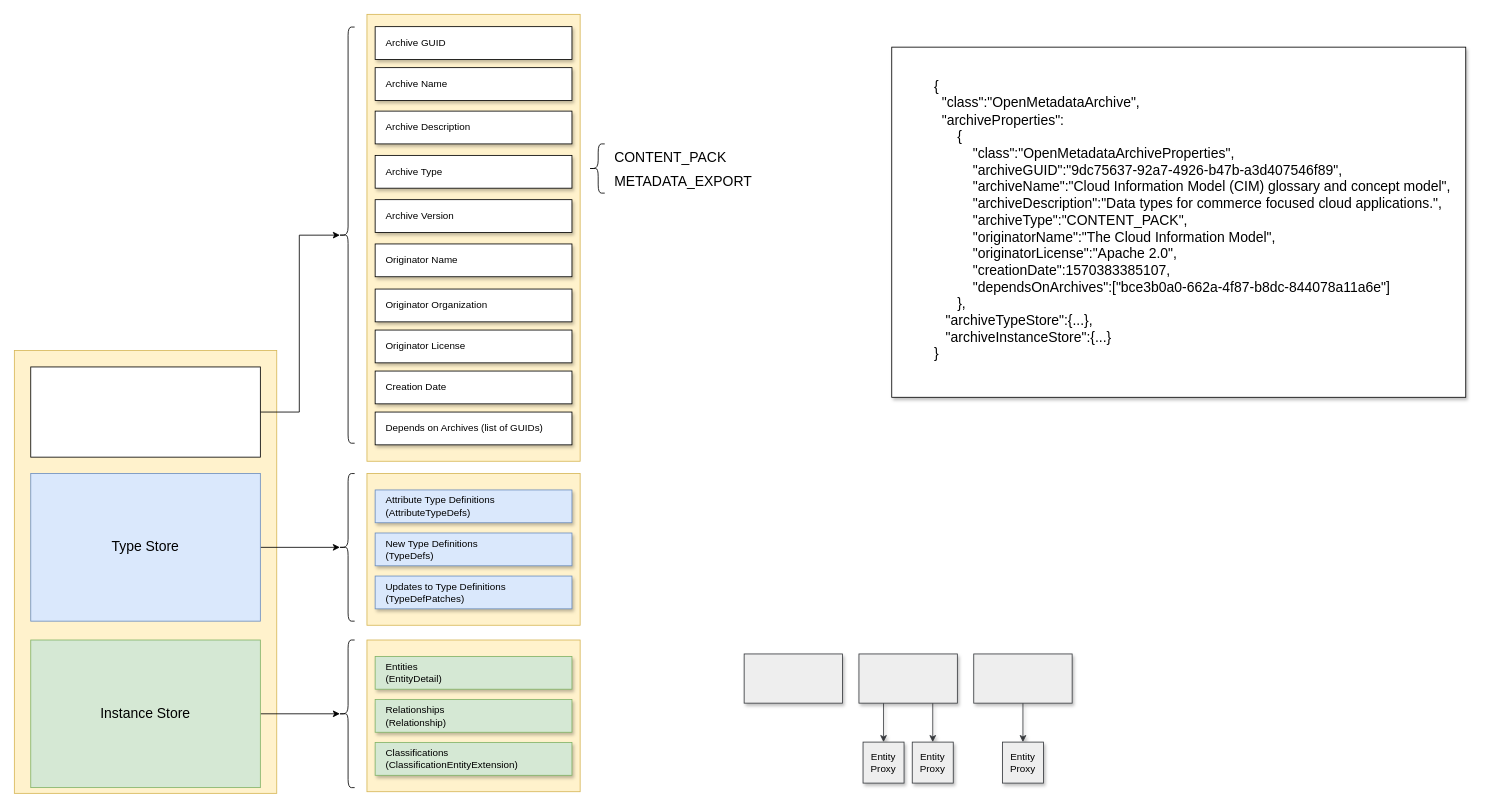
Image size: 1485x808. Some labels were removed from this diagram. The centre of each missing label's shape, as x and y in pixels:
"Classification" belongs at pixel 1023 679.
"Entity" belongs at pixel 793 679.
"Header" belongs at pixel 145 411.
"Relationship" belongs at pixel 908 679.
